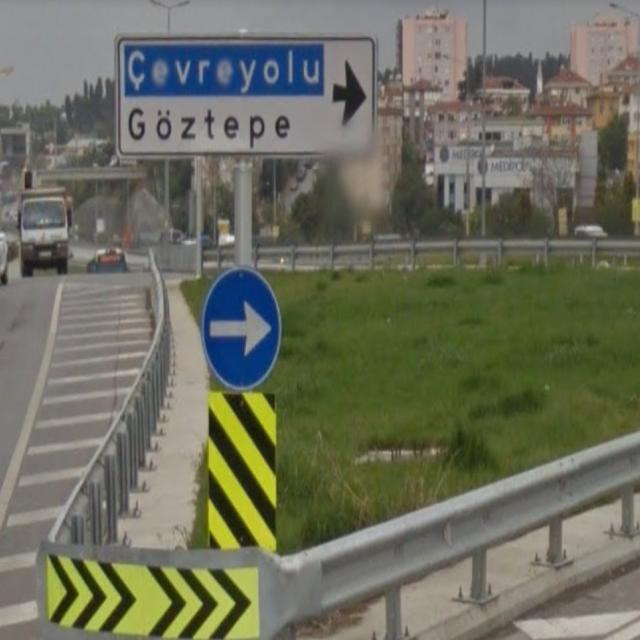sag: (203, 266, 282, 390)
